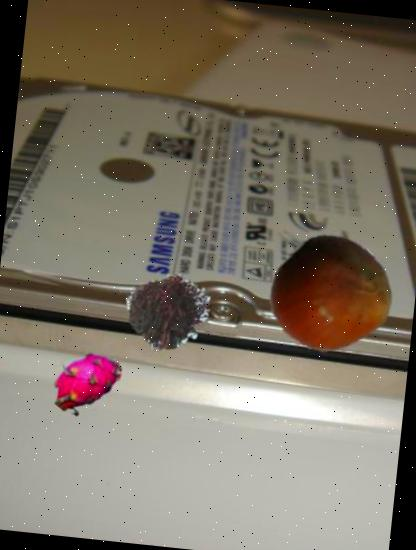Nut: (266, 231, 396, 361)
Pitahaya: (42, 339, 124, 421)
Rambutan: (121, 262, 222, 363)
